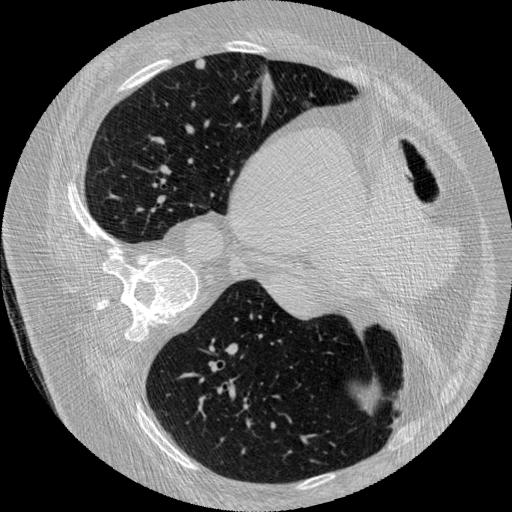nodule: (193, 57, 211, 75)
